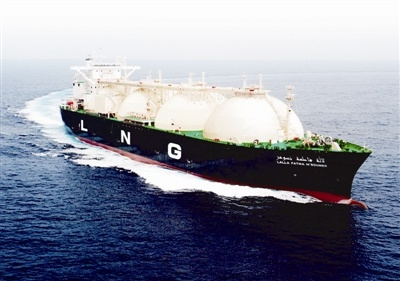Cargoship: (61, 50, 373, 213)
